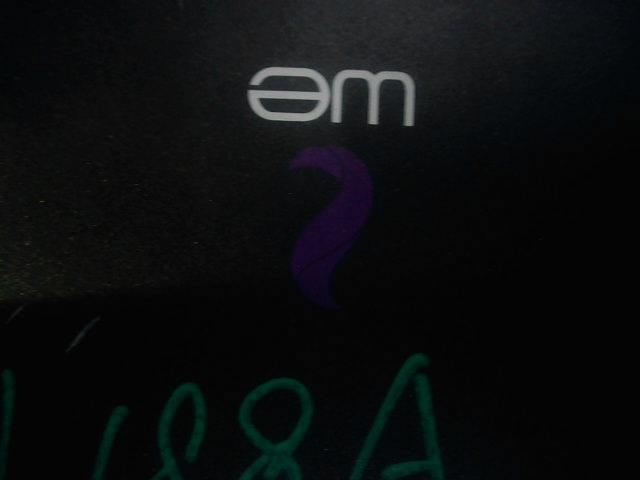AT_We: (243, 61, 417, 314)
